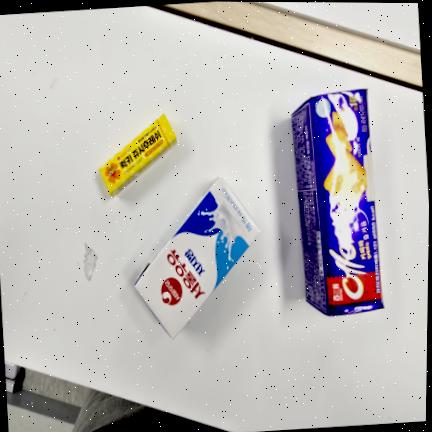cracker_ace: (291, 89, 383, 315)
gum_yellow: (112, 114, 176, 181)
milk_blue: (134, 176, 259, 339)
